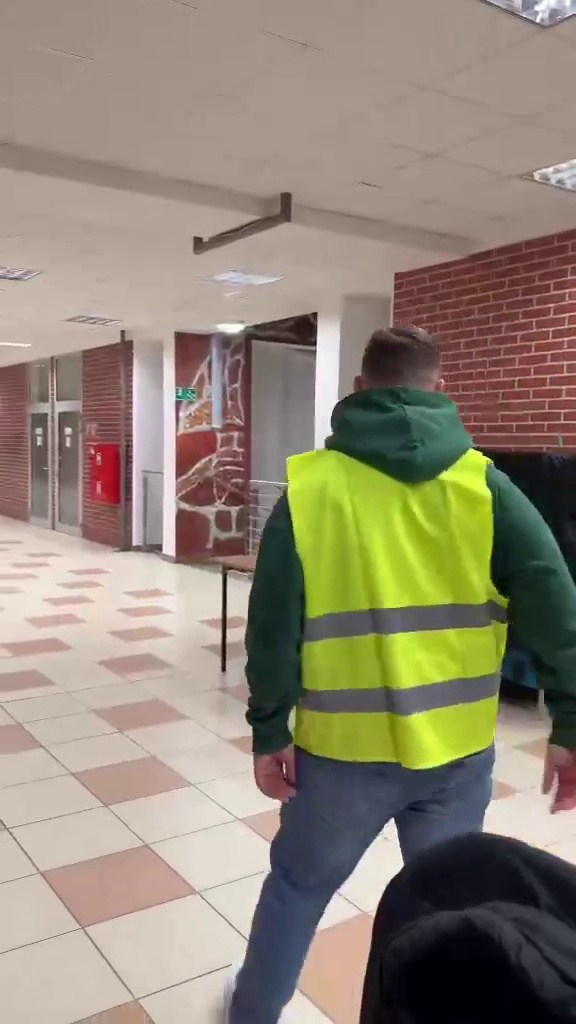vest: (232, 315, 568, 1014)
